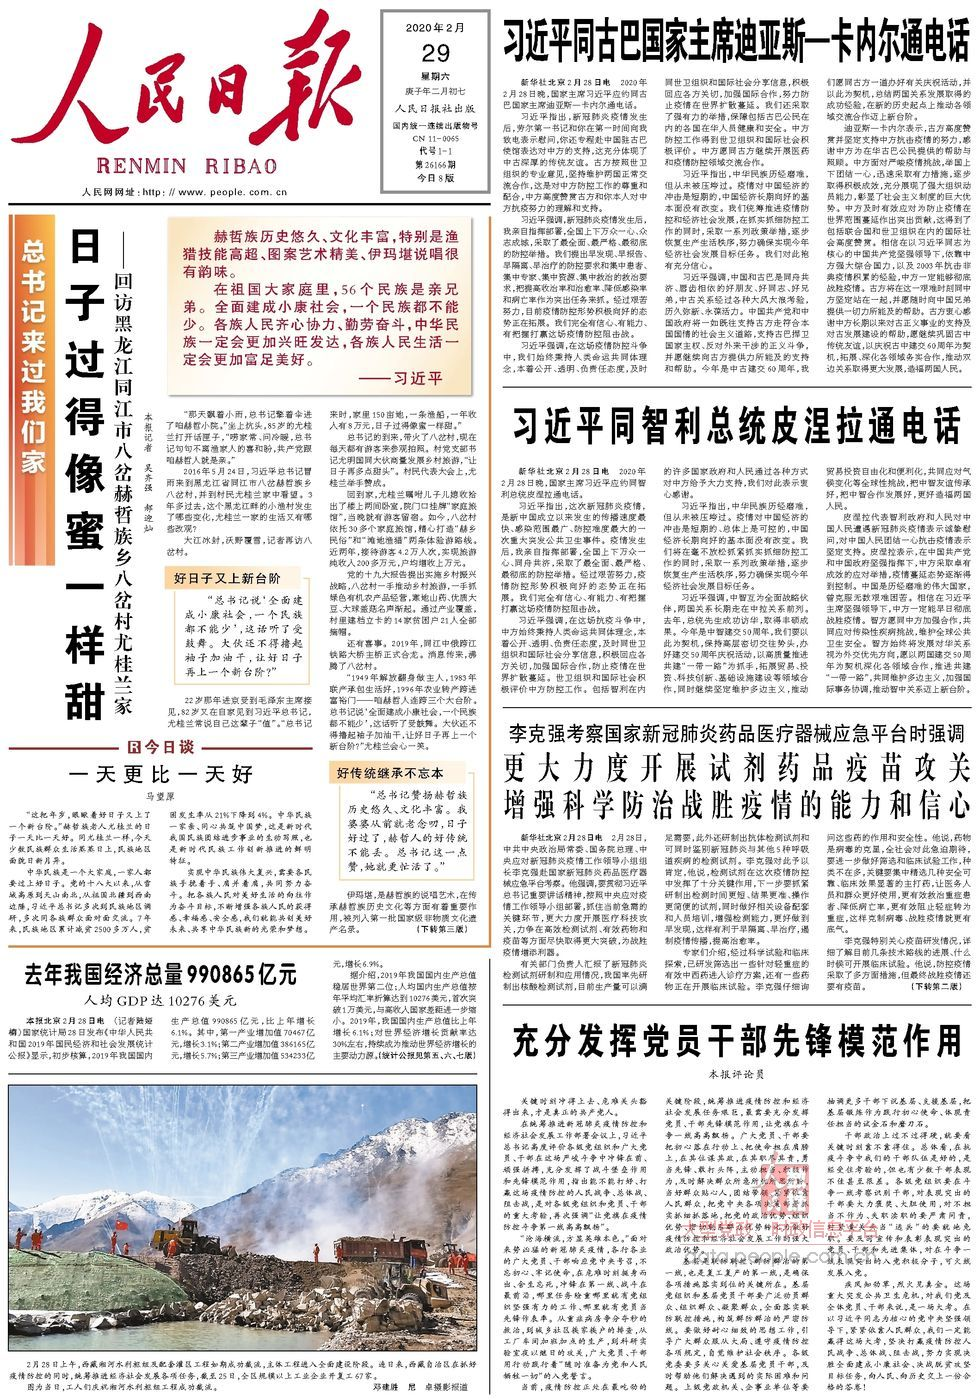pic: (5, 1079, 483, 1354)
